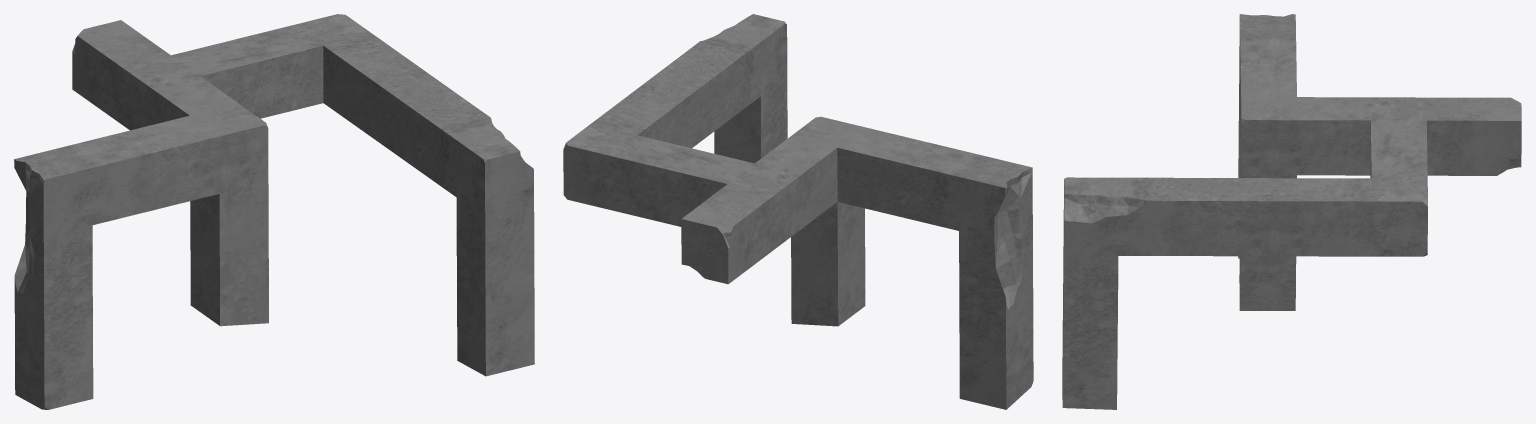
The model's file is asset.gltf.
3 renders of one model, left to right at view 1: azimuth 30°, elevation 25°; view 2: azimuth 150°, elevation 25°; view 3: azimuth 270°, elevation 25°, orthographic. The views are drawn at different scales.
Parts seen in each view (by area): view 1: logo; view 2: logo; view 3: logo.
Boxes of the visible parts, x1,y1,x2,y2 form: logo: (14, 14, 534, 409); logo: (563, 14, 1033, 409); logo: (1062, 14, 1521, 409).
Size of the model in its own units: 7.5 by 4.24 by 7.76.
Materials: 1 (1 with a texture image).
